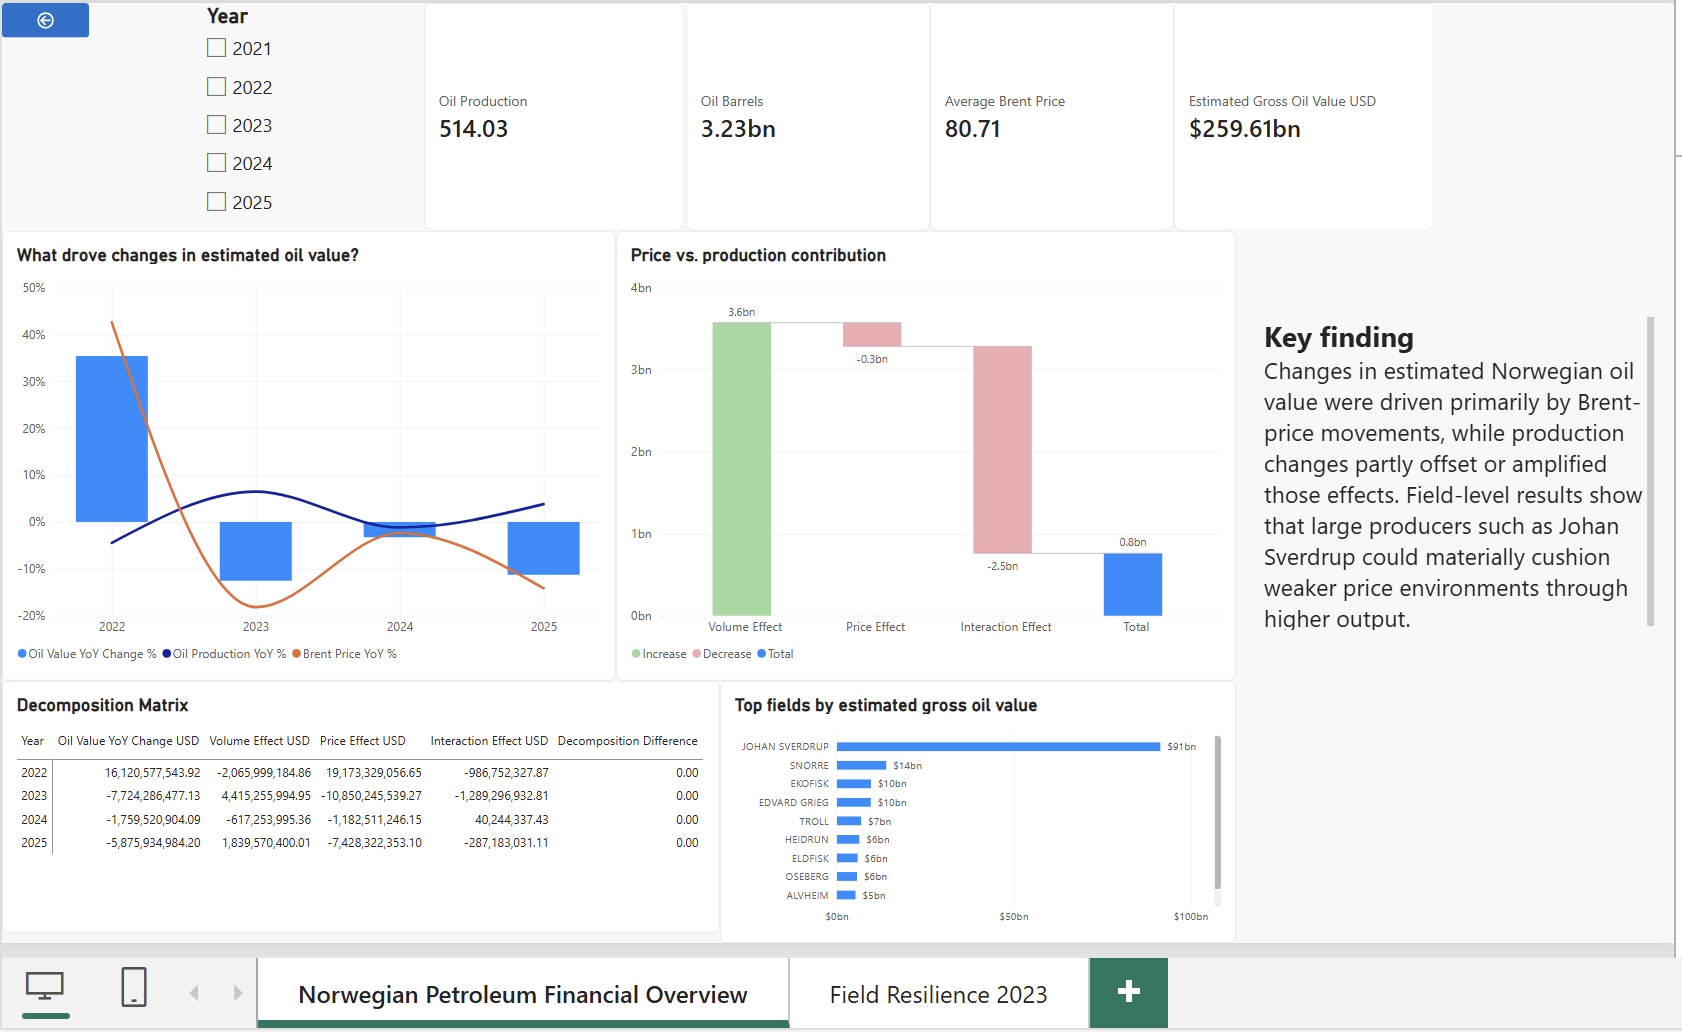

This screenshot's page, from the dashboard's own definition file:
{"tool":"powerbi","page":{"name":"Norwegian Petroleum Financial Overview","canvas":[1920,1080],"ordinal":0},"visuals":[{"type":"cardVisual","title":"Oil Production","fields":{"Data":["Brent_price.Total Oil Production (mill Sm3)"]},"box":[485.7,0,298.6,261.8],"z":0},{"type":"cardVisual","fields":{"Data":["Brent_price.Total Oil Barrels"]},"box":[784.3,0,280.2,261.8],"z":1000},{"type":"cardVisual","fields":{"Data":["Brent_price.Brent Price"]},"box":[1064.5,0,280.2,261.8],"z":2000},{"type":"cardVisual","fields":{"Data":["Brent_price.Estimated Gross Oil Value USD"]},"box":[1344.7,0,298.6,261.8],"z":3000},{"type":"lineStackedColumnComboChart","title":"What drove changes in estimated oil value?","fields":{"Category":["Date_Table.Year"],"Y":["Brent_price.Oil Value YoY Change %"],"Y2":["Brent_price.Oil Production YoY %","Brent_price.Brent Price YoY %"]},"box":[0,261.8,705.1,516.7],"z":4000},{"type":"pivotTable","title":"Decomposition Matrix","fields":{"Rows":["Date_Table.Year"],"Values":["Brent_price.Oil Value YoY Change USD","Brent_price.Volume Effect USD","Brent_price.Price Effect USD","Brent_price.Interaction Effect USD","Brent_price.Decomposition Difference"]},"box":[0,778.6,824.5,289.4],"z":5000},{"type":"actionButton","box":[0,0,100,40],"z":6000},{"type":"slicer","fields":{"Values":["Date_Table.Year"]},"box":[227.4,0,259.5,261.8],"z":7000},{"type":"waterfallChart","title":"Price vs. production contribution","fields":{"Category":["Effect_Table.Effect"],"Y":["Brent_price.Effect Value USD"]},"box":[705.1,261.8,712,516.7],"z":8000},{"type":"clusteredBarChart","title":"Top fields by estimated gross oil value","fields":{"Category":["Field_Lookup.Field"],"Y":["Brent_price.Estimated Gross Oil Value USD"]},"box":[824.5,778.6,592.5,300.9],"z":9000},{"type":"textbox","box":[1449.2,360.6,447.8,358.3],"z":9001}]}

Visuals, with their boxes on the page's 1920x1080 design canvas (x1, y1, x2, y2). These are canvas units, not pixel positions in the 1682x1032 screenshot, which may show the page scaled, cropped or inside an application window:
"Oil Production" cardVisual: 486, 0, 784, 262
cardVisual - Brent_price.Total Oil Barrels: 784, 0, 1064, 262
cardVisual - Brent_price.Brent Price: 1064, 0, 1345, 262
cardVisual - Brent_price.Estimated Gross Oil Value USD: 1345, 0, 1643, 262
"What drove changes in estimated oil value?" lineStackedColumnComboChart: 0, 262, 705, 778
"Decomposition Matrix" pivotTable: 0, 779, 824, 1068
actionButton: 0, 0, 100, 40
slicer - Date_Table.Year: 227, 0, 487, 262
"Price vs. production contribution" waterfallChart: 705, 262, 1417, 778
"Top fields by estimated gross oil value" clusteredBarChart: 824, 779, 1417, 1080
textbox: 1449, 361, 1897, 719
